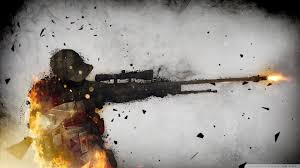gun: (70, 69, 270, 106)
